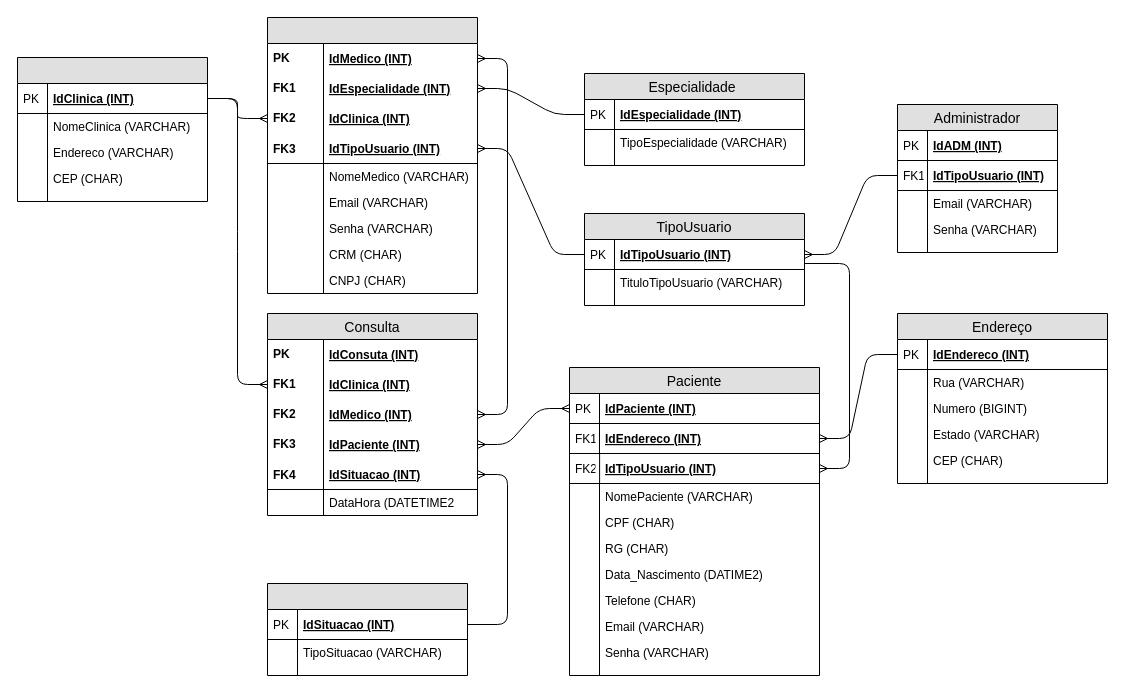
Some shapes in this 1125 by 693 pixel diagram are drawn without their labels. Here are the shapes that lost their labels. From the top down, the box of each, then its label:
(16, 56, 208, 202): Clínica
(266, 16, 478, 294): Médico
(266, 582, 468, 676): Situação
